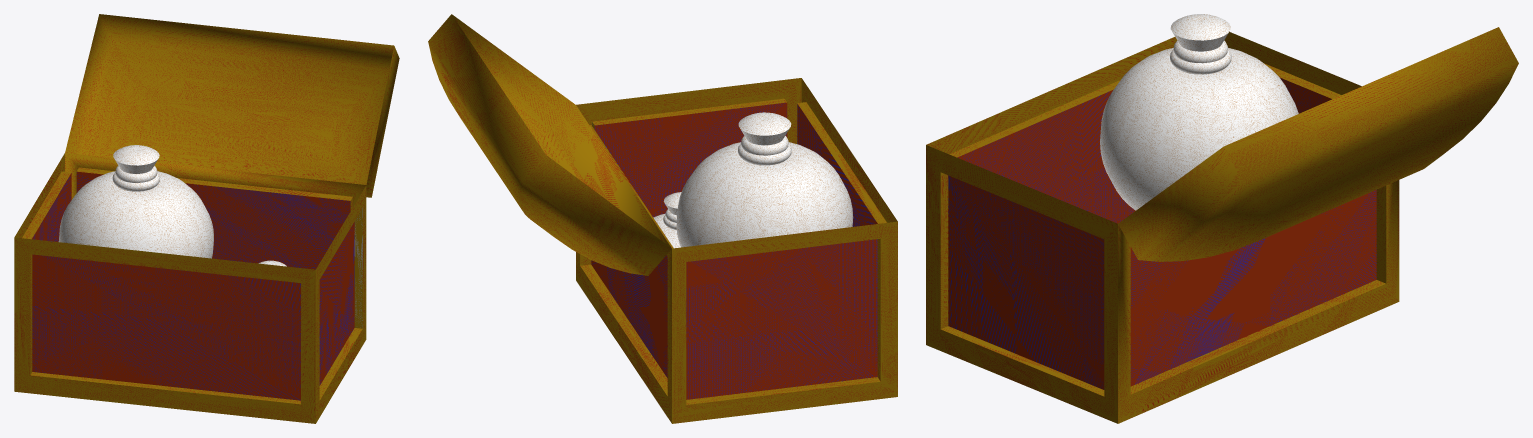
The model's file is Probabilita.fbx.
3 renders of one model, left to right at view 1: azimuth 30°, elevation 25°; view 2: azimuth 150°, elevation 25°; view 3: azimuth 270°, elevation 25°, orthographic. The views are drawn at different scales.
Visible parts, largest first — view 1: skrinja_3; view 2: skrinja_3; view 3: skrinja_3.
Part boxes in pixels (left/top/right/bottom): skrinja_3: left=14, top=14, right=399, bottom=423; skrinja_3: left=428, top=14, right=897, bottom=423; skrinja_3: left=926, top=14, right=1518, bottom=423.
Size of the model in its own units: 4.17 by 2.47 by 4.13.
